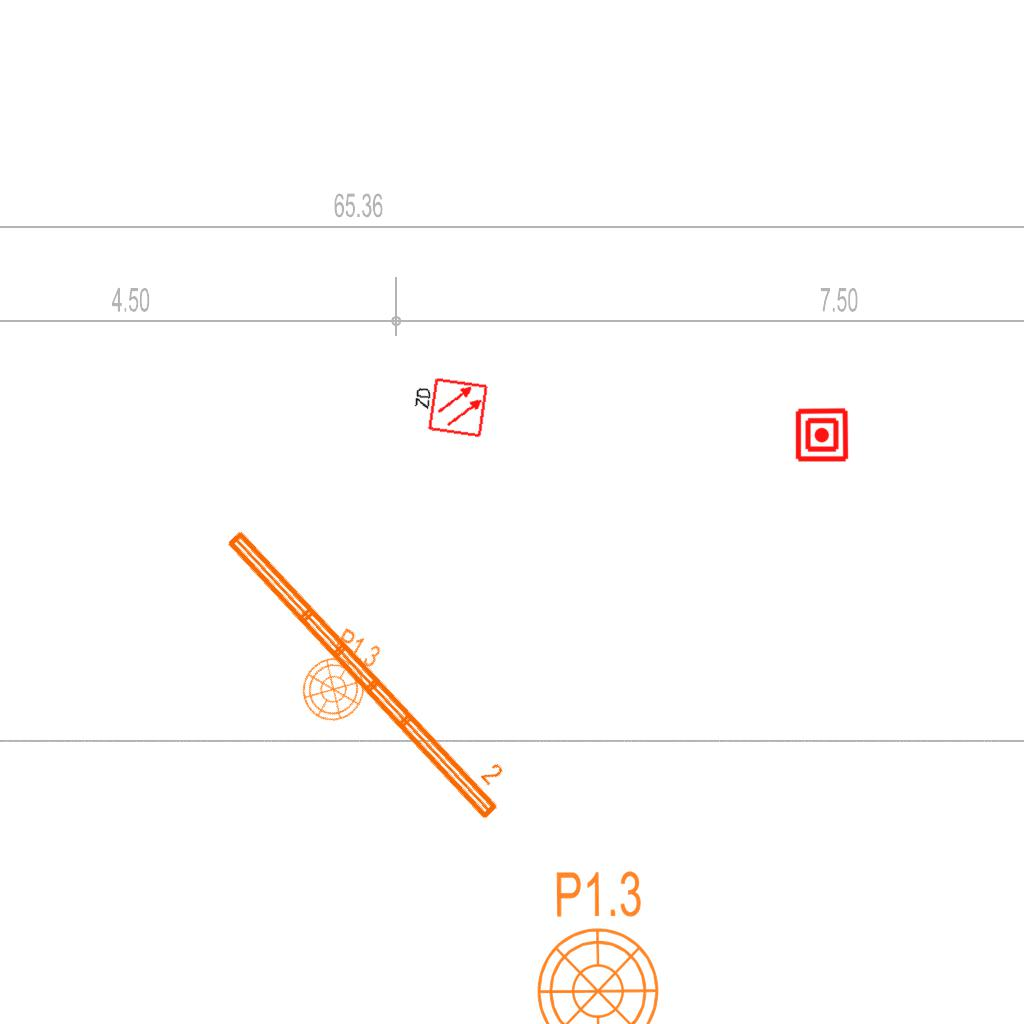Ambulanz_Pendelleuchte_LED: (219, 505, 524, 827)
Aufbaurundleuchte_LED_Treppenhaus: (534, 853, 673, 1024), (289, 614, 401, 737)
NAM-Nichtautomatischer_Melder: (794, 407, 850, 463)
ZD_Melder_in_Zwischendecke_mit_Revisionsoeffnung_mind_40_x_40_cm: (407, 373, 490, 441)
